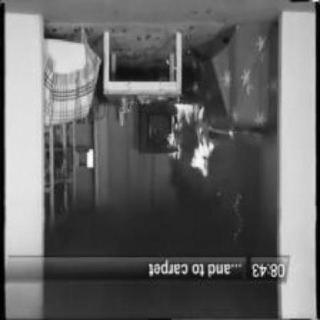Fire: (166, 102, 218, 182)
